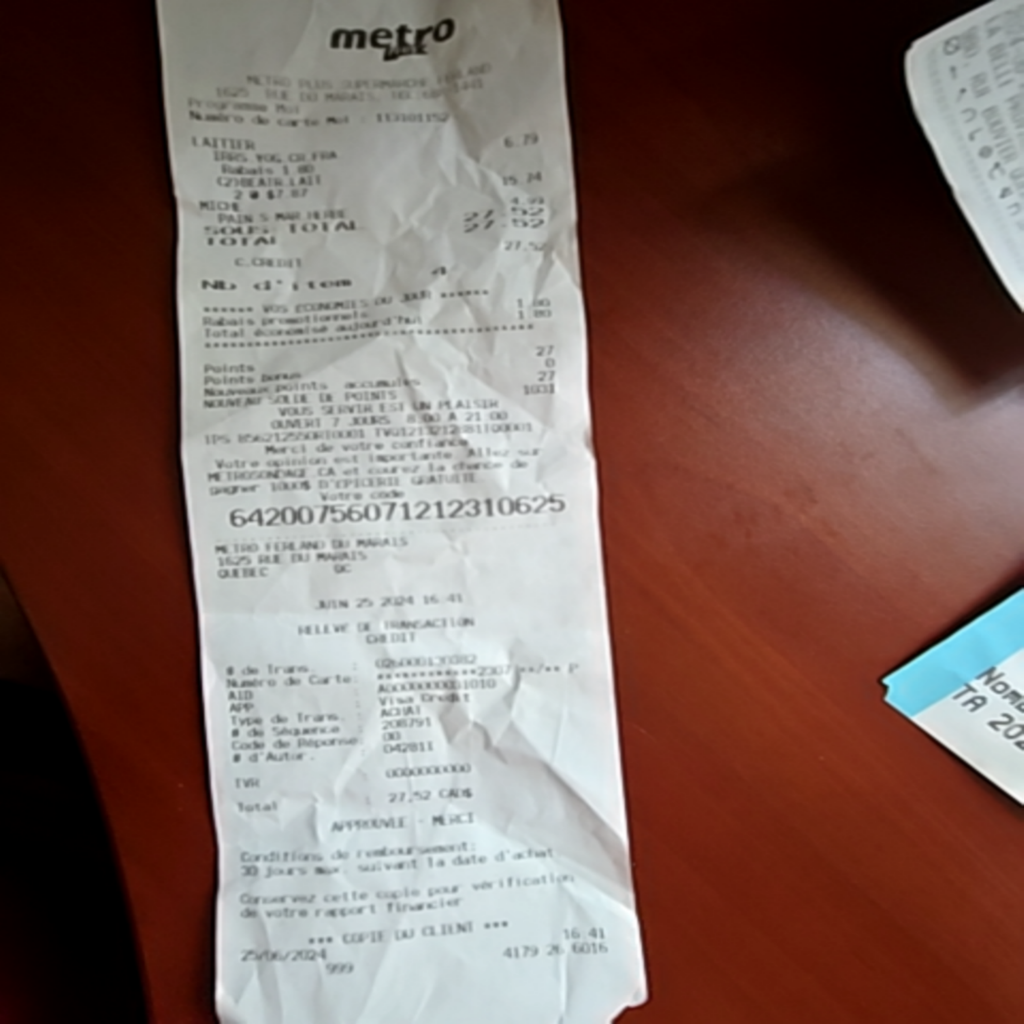recipt: (157, 0, 646, 1020)
